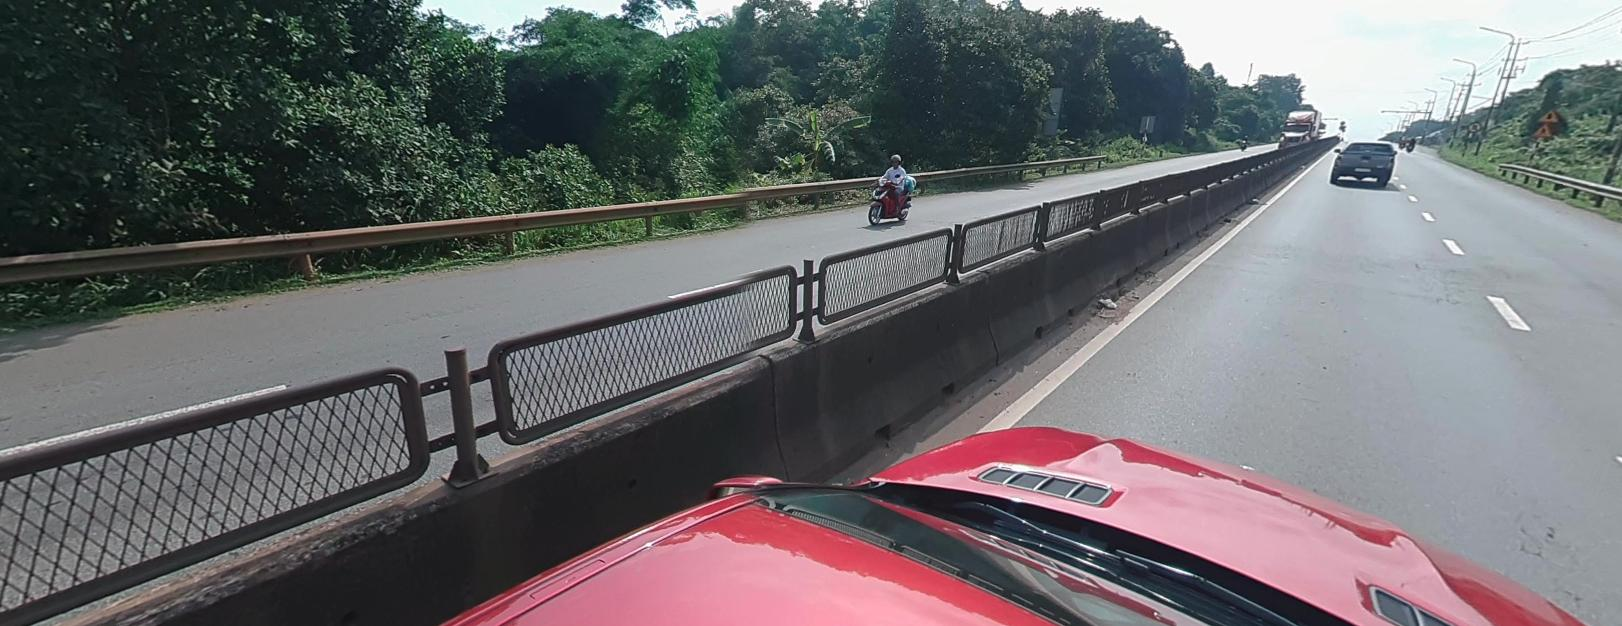Nguy hiem: (1538, 107, 1560, 121), (1531, 122, 1552, 135)
